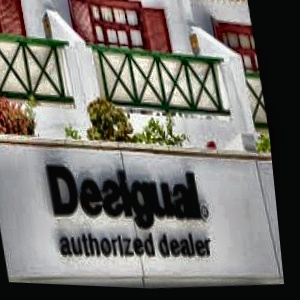desigual: (173, 69, 239, 243)
